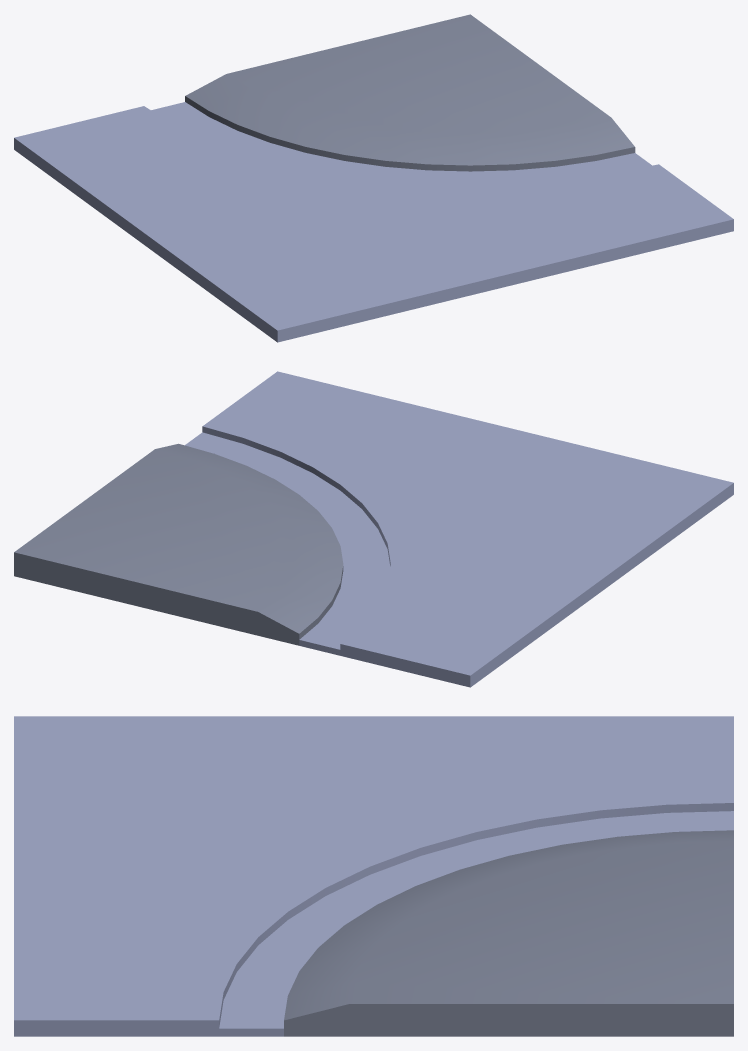
The model's file is road-corner.glb.
The picture shows the model from 3 angles, top to bottom: view 1: azimuth 30°, elevation 25°; view 2: azimuth 150°, elevation 25°; view 3: azimuth 270°, elevation 25°; orthographic projection. The views are drawn at different scales.
Parts seen in each view (by area): view 1: road-corner; view 2: road-corner; view 3: road-corner.
Boxes of the visible parts, box(x1,y1,x2,y2) form: road-corner: box(14, 14, 733, 342); road-corner: box(14, 371, 733, 687); road-corner: box(14, 716, 733, 1036).
Size of the model in its own units: 1 by 0.0501 by 1.
1 material, 1 textured.
